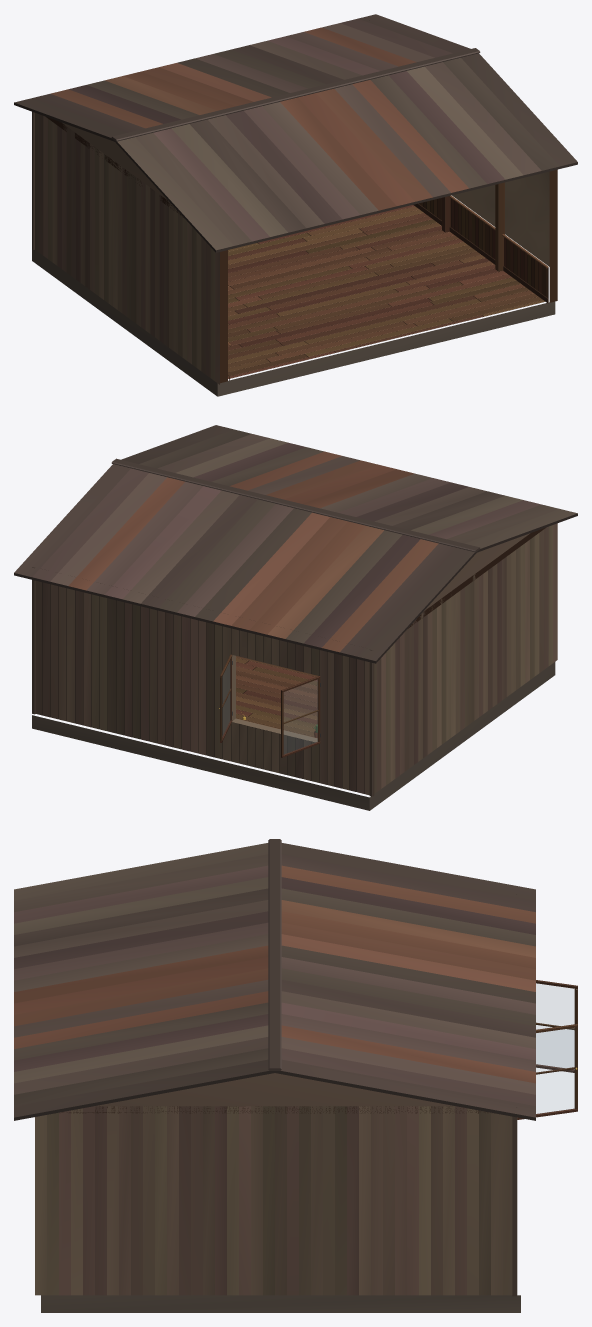
File: workshop-room.glb
3 renders of one model, top to bottom at view 1: azimuth 30°, elevation 25°; view 2: azimuth 150°, elevation 25°; view 3: azimuth 270°, elevation 25°, orthographic. The views are drawn at different scales.
Visible parts, largest first — view 1: room_wood, room_steel; view 2: room_wood, room_steel, room_glass; view 3: room_steel, room_wood, room_glass.
Boxes of the visible parts, x1,y1,x2,y2 form: room_wood: (32,111,557,396); room_steel: (14,14,577,252); room_wood: (32,523,557,810); room_steel: (14,425,577,737); room_glass: (223,663,317,753); room_steel: (14,839,535,1120); room_wood: (35,894,577,1312); room_glass: (536,984,574,1113).
Bounding box in the file's own units: 9.04 × 4.64 × 9.4.
